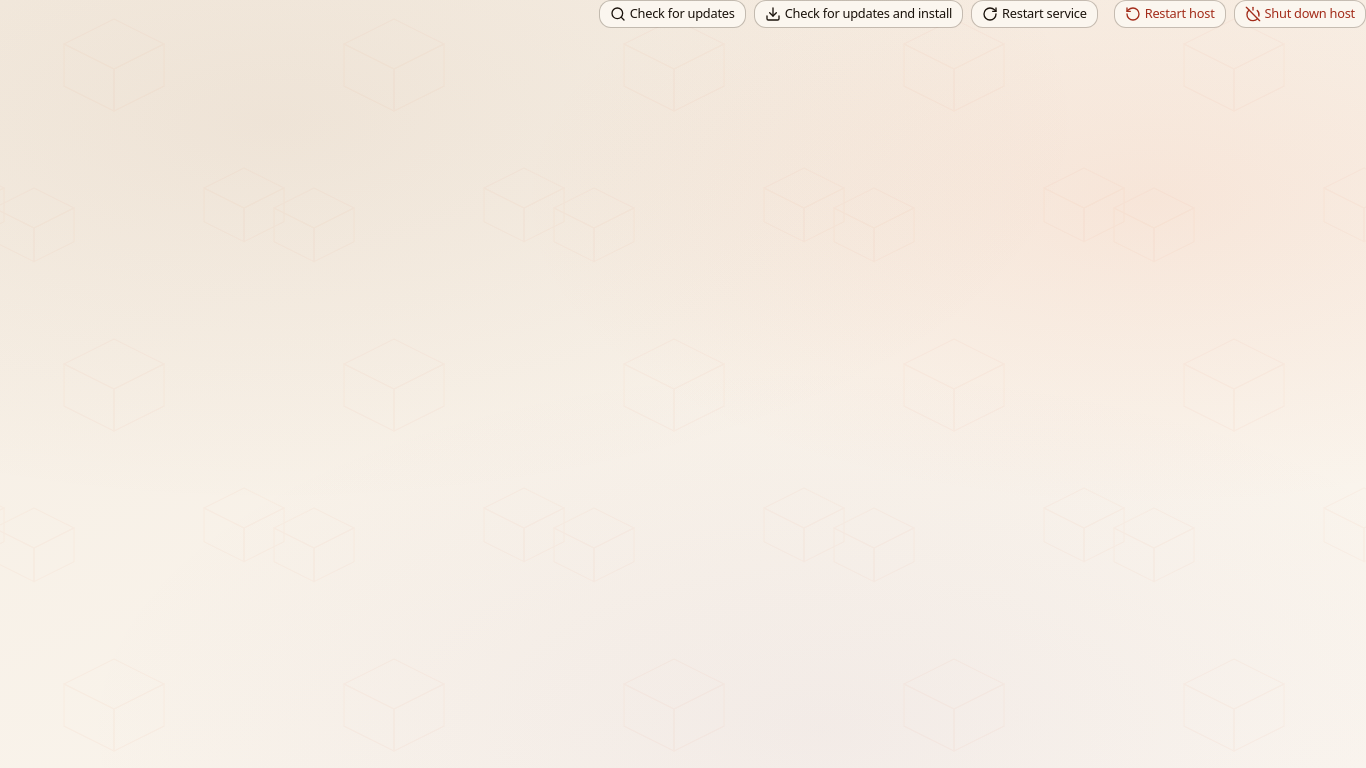
Test: HostActions: one dialog per action › Restart service: title, description, box, the two lines, the typed field, the confirm
Click the button "Restart service" at (1034, 14), box top-left (971, 0), bottom-right (1098, 28)
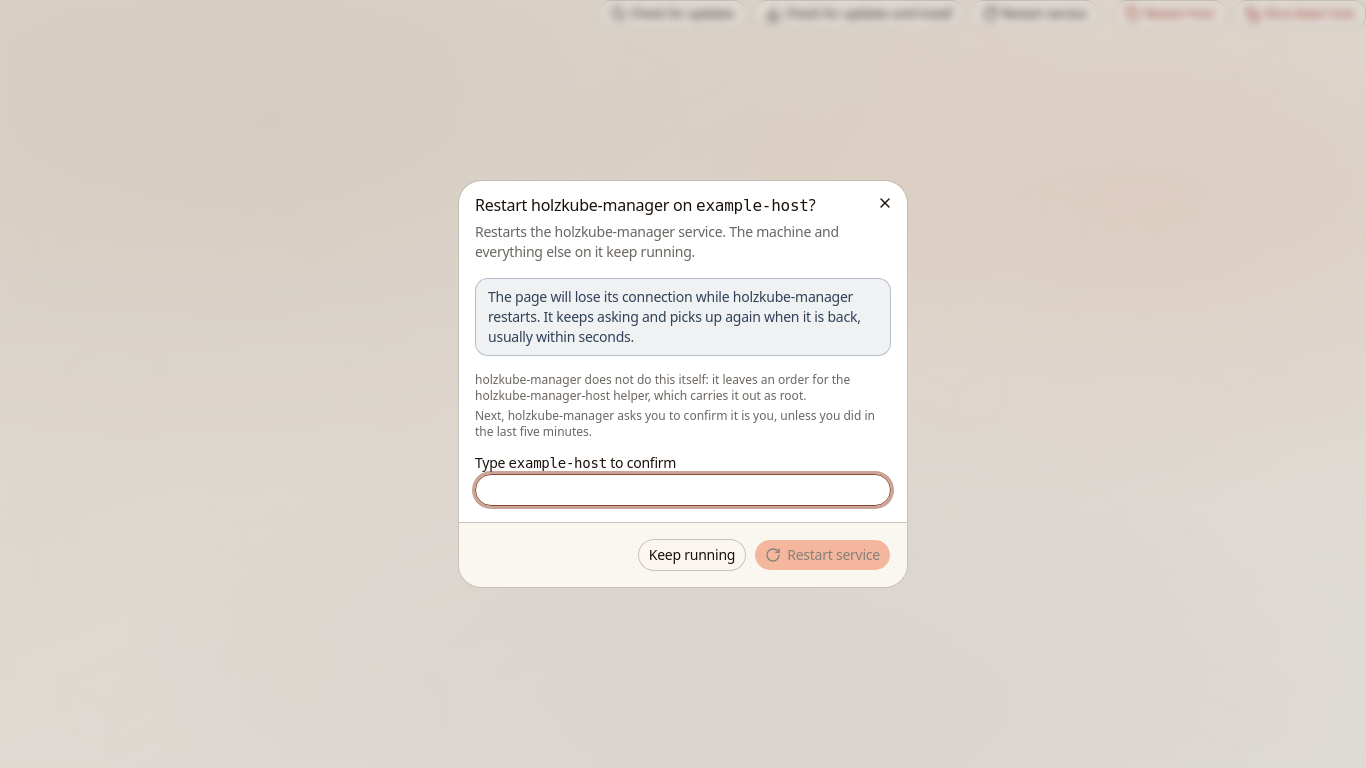
Now the dialog shows "Restarts the holzkube-manager service. The machine and everything else on it keep running.", box top-left (475, 222), bottom-right (839, 261)
Now the text "leaves an order for the holzkube-manager-host helper" is shown, box top-left (475, 371), bottom-right (850, 404)
Now the text "asks you to confirm it is you" is shown, box top-left (475, 407), bottom-right (875, 440)
